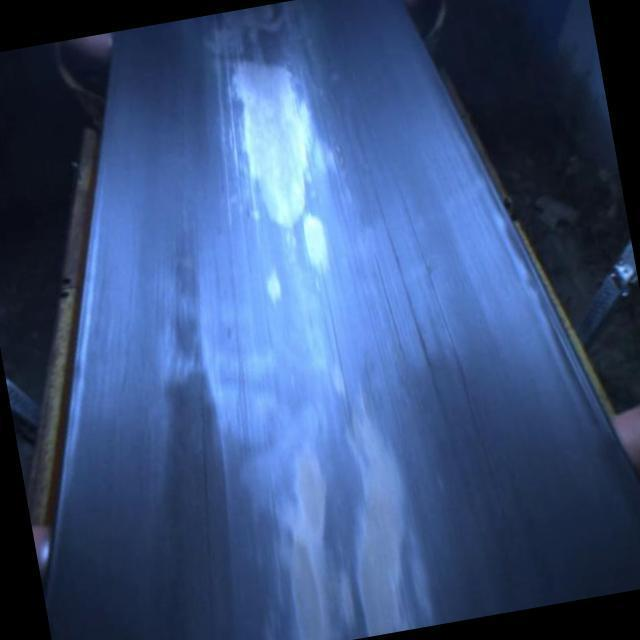Wear: (236, 351, 432, 639), (191, 0, 347, 307)
